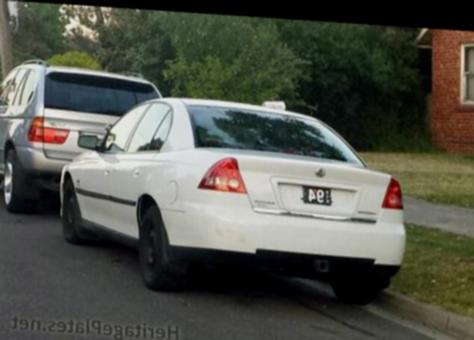License_Plate: (291, 181, 337, 215)
